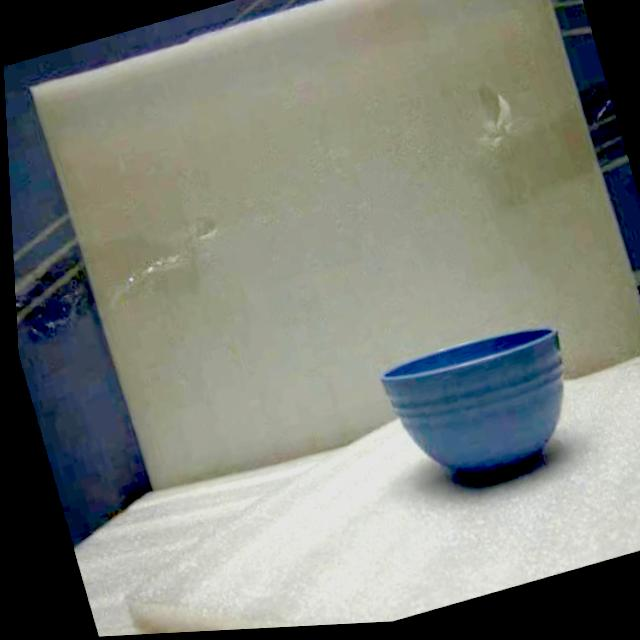Bowl: (381, 329, 563, 479)
